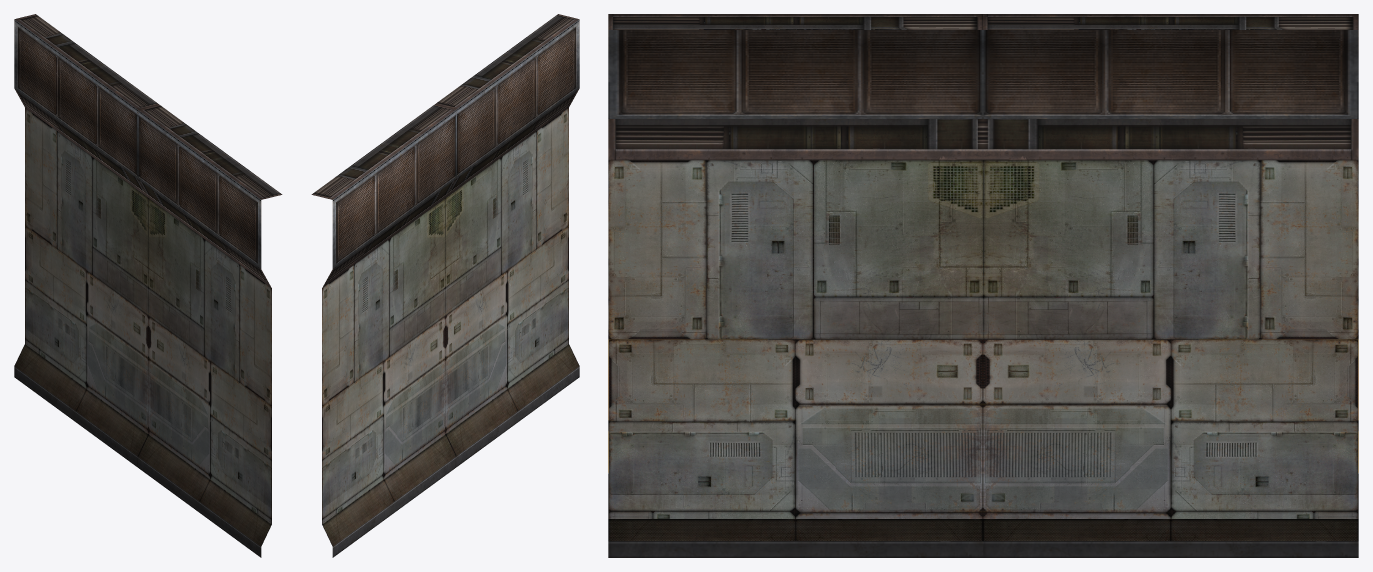
File: ARC_Wall_High_02.FBX
3 renders of one model, left to right at view 1: azimuth 30°, elevation 25°; view 2: azimuth 150°, elevation 25°; view 3: azimuth 270°, elevation 25°, orthographic. The views are drawn at different scales.
Visible parts, largest first — view 1: ARC_Wall_High_02; view 2: ARC_Wall_High_02; view 3: ARC_Wall_High_02.
Part boxes in pixels (box(x1,y1,x2,y2)): ARC_Wall_High_02: box(14, 14, 282, 557); ARC_Wall_High_02: box(311, 14, 579, 557); ARC_Wall_High_02: box(608, 14, 1358, 557).
Bounding box in the file's own units: 25 × 400 × 500.
1 material, 1 textured.
